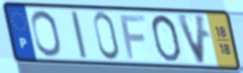0: (91, 10, 122, 63)
F: (118, 14, 148, 61)
I: (69, 10, 89, 61)
O: (149, 13, 183, 64), (29, 9, 64, 58)
V: (174, 12, 208, 67)
